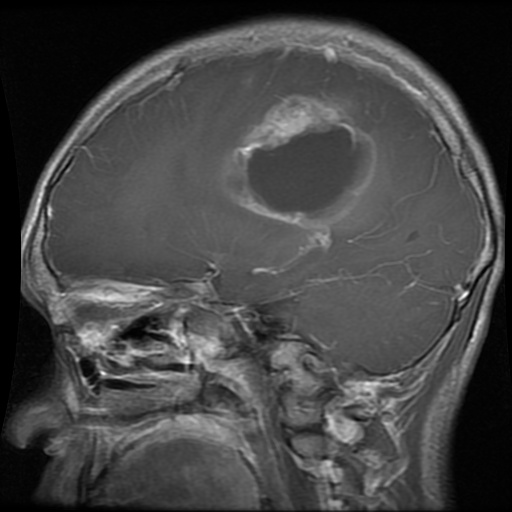glioma: (215, 88, 378, 251)
